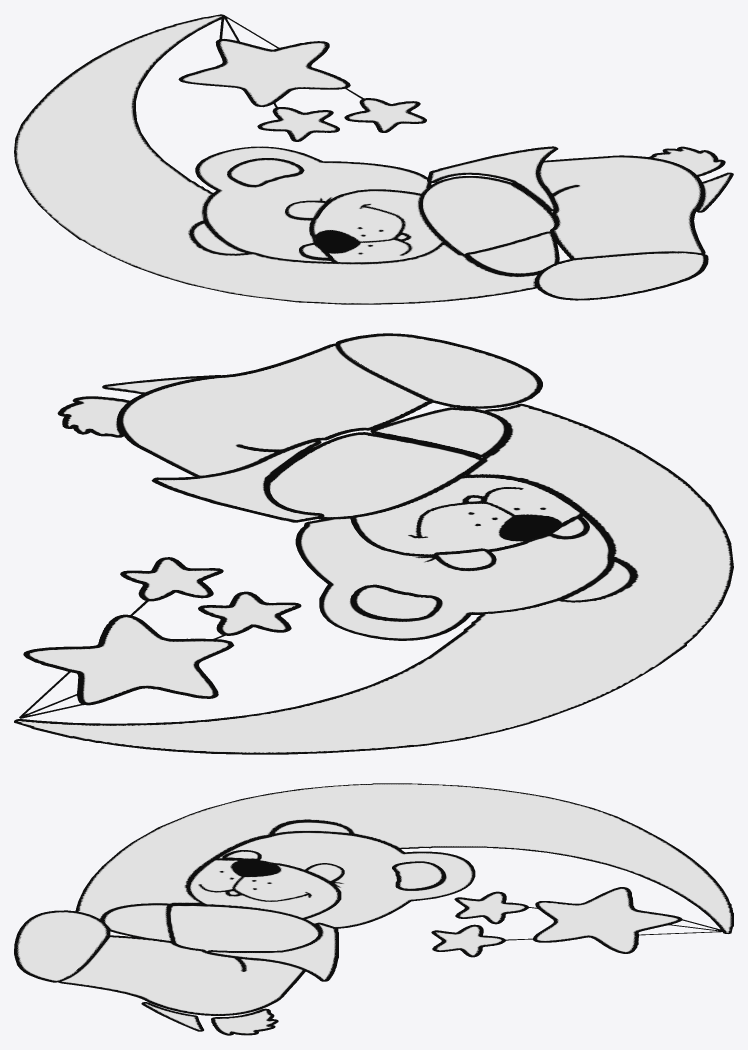
3 renders of one model, top to bottom at view 1: azimuth 30°, elevation 25°; view 2: azimuth 150°, elevation 25°; view 3: azimuth 270°, elevation 25°, orthographic. The views are drawn at different scales.
Visible parts, largest first — view 1: image_2, image_6, image_8, image_5, image_7, image_1, image_3, image_4, image_10, image_9; view 2: image_2, image_6, image_8, image_5, image_7, image_3, image_1, image_4, image_10, image_9; view 3: image_2, image_6, image_8, image_5, image_7, image_1, image_3, image_4, image_10, image_9.
Boxes of the visible parts, <box> form: image_2: <box>14,14,733,304</box>; image_6: <box>536,146,725,259</box>; image_8: <box>193,146,431,261</box>; image_5: <box>423,146,558,254</box>; image_7: <box>309,189,446,262</box>; image_1: <box>178,38,350,107</box>; image_3: <box>534,251,708,300</box>; image_4: <box>464,231,559,275</box>; image_10: <box>257,107,339,141</box>; image_9: <box>344,98,426,132</box>; image_2: <box>14,375,733,754</box>; image_6: <box>57,343,432,477</box>; image_8: <box>295,515,632,640</box>; image_5: <box>151,432,481,522</box>; image_7: <box>350,475,584,556</box>; image_3: <box>335,333,542,408</box>; image_1: <box>23,614,234,705</box>; image_4: <box>370,407,510,457</box>; image_10: <box>198,591,301,635</box>; image_9: <box>120,557,223,601</box>; image_2: <box>75,783,733,1031</box>; image_6: <box>58,935,306,1035</box>; image_8: <box>217,821,475,928</box>; image_5: <box>170,904,338,981</box>; image_7: <box>189,858,341,919</box>; image_1: <box>533,887,682,953</box>; image_3: <box>14,910,110,982</box>; image_4: <box>100,903,174,941</box>; image_10: <box>454,891,528,924</box>; image_9: <box>431,924,505,957</box>.
Size of the model in its own units: 15.41 by 0.0779 by 18.61.
Materials: 11 (11 with a texture image).
